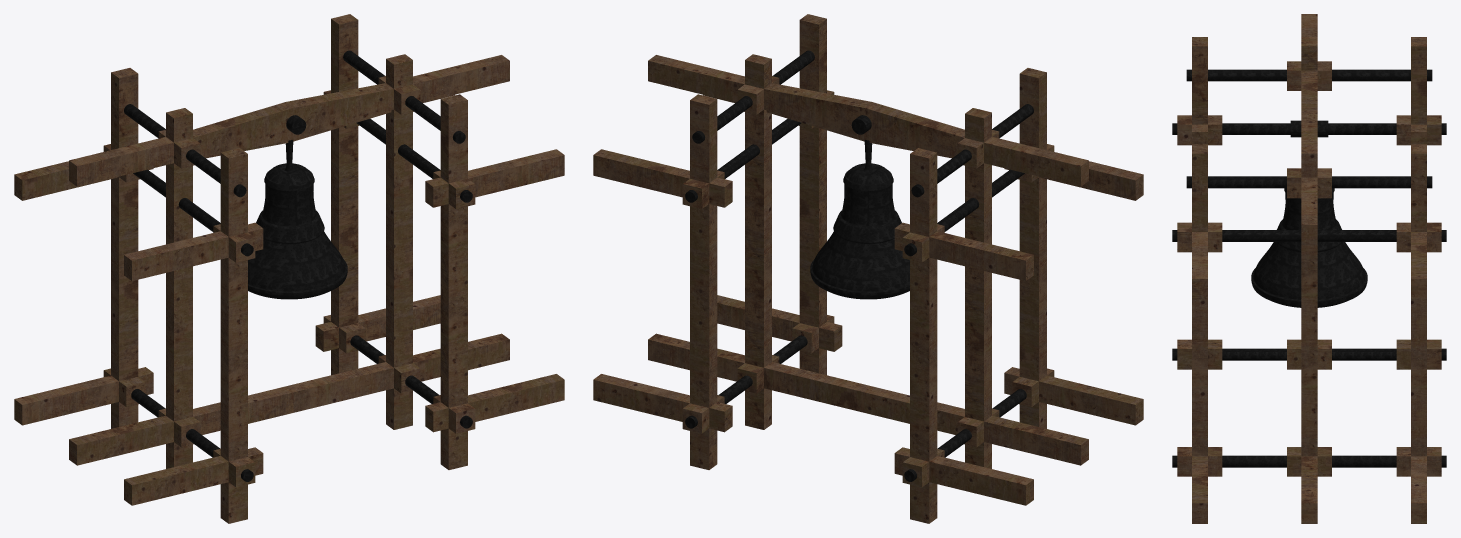
Rendered from fbxBell.fbx.
3 views of the same model, side by side, from view 1: azimuth 30°, elevation 25°; view 2: azimuth 150°, elevation 25°; view 3: azimuth 270°, elevation 25° (orthographic).
Visible parts, largest first — view 1: wood_bell, bell, detail; view 2: wood_bell, bell, detail; view 3: wood_bell, detail, bell, detail1.
Part boxes in pixels (bbox=[...]): wood_bell: bbox=[14, 14, 564, 523]; bell: bbox=[248, 140, 347, 299]; detail: bbox=[124, 50, 472, 481]; wood_bell: bbox=[593, 14, 1143, 523]; bell: bbox=[810, 140, 909, 299]; detail: bbox=[685, 50, 1033, 481]; wood_bell: bbox=[1177, 14, 1441, 523]; detail: bbox=[1172, 69, 1446, 467]; bell: bbox=[1251, 188, 1367, 307]; detail1: bbox=[1290, 120, 1328, 137].
Bounding box in the file's own units: 10.68 × 8.62 × 5.87.
Materials: 2 (2 with a texture image).
